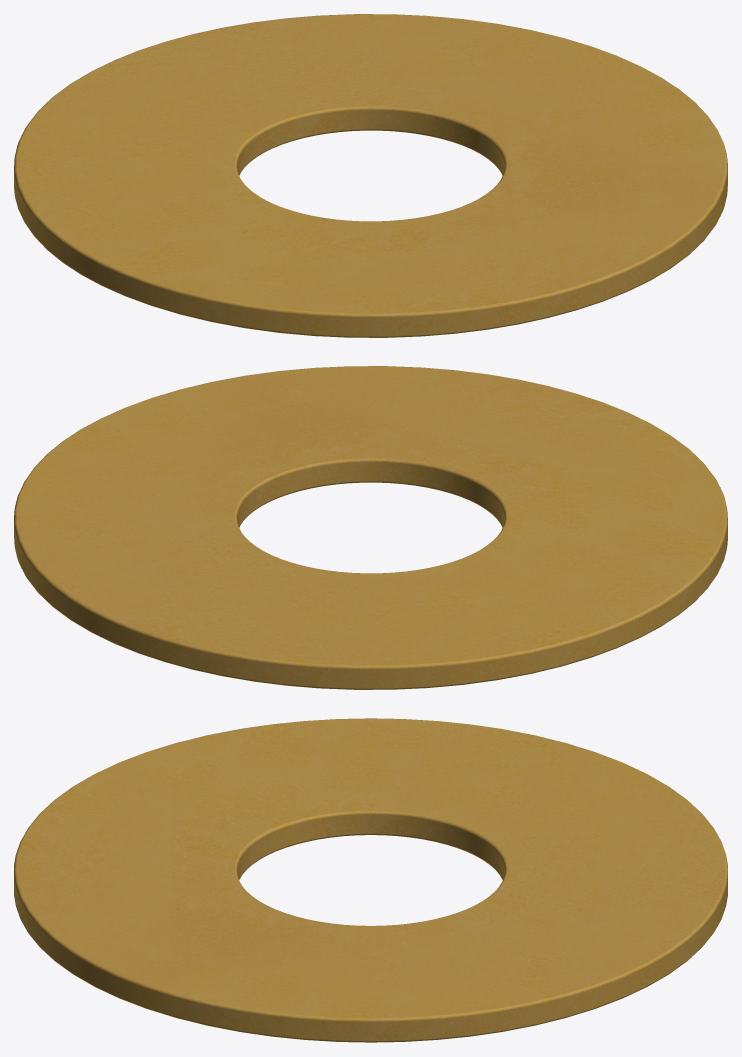
File: Seal-2.glb
3 views of the same model, one above another, from view 1: azimuth 30°, elevation 25°; view 2: azimuth 150°, elevation 25°; view 3: azimuth 270°, elevation 25° (orthographic).
Bounding box in the file's own units: 0.048 × 0.0018 × 0.048.
1 material, 1 textured.
